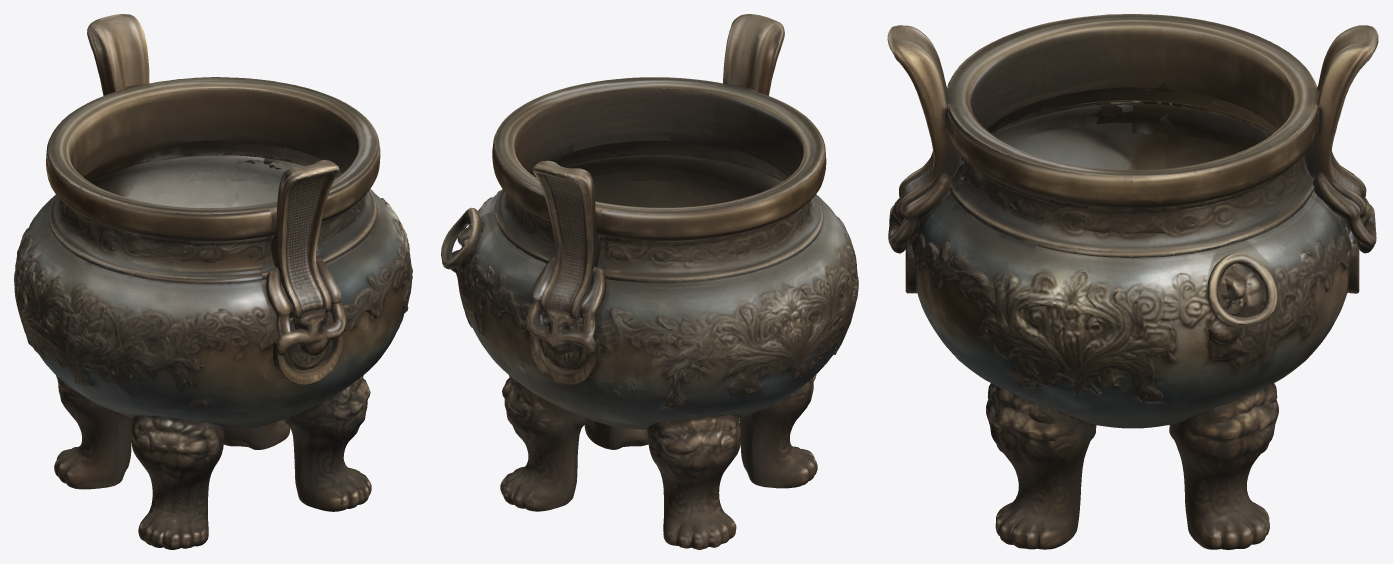
File: incense-burner_textured.glb
3 views of the same model, side by side, from view 1: azimuth 30°, elevation 25°; view 2: azimuth 150°, elevation 25°; view 3: azimuth 270°, elevation 25° (orthographic). The views are drawn at different scales.
Parts seen in each view (by area): view 1: geometry_0; view 2: geometry_0; view 3: geometry_0.
Part boxes in pixels (x1,y1,x2,y2): geometry_0: (14, 14, 412, 549); geometry_0: (441, 14, 858, 549); geometry_0: (887, 14, 1378, 549).
Size of the model in its own units: 0.2979 by 0.32 by 0.3121.
1 material, 1 textured.
